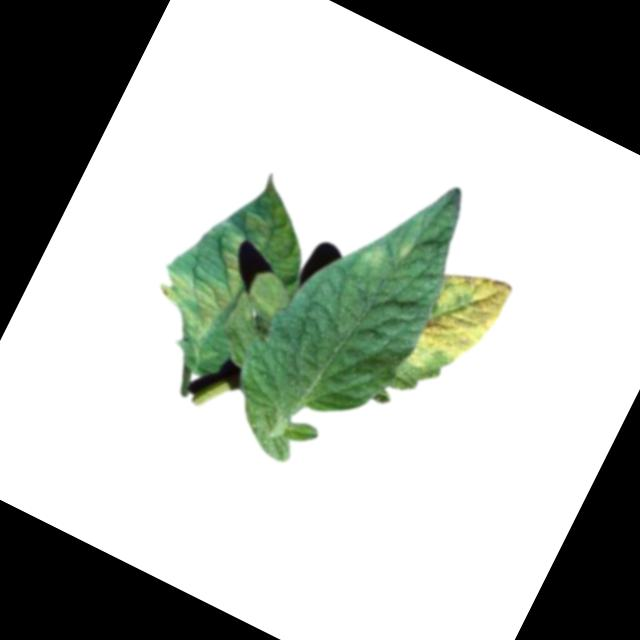Leaf_Mold: (139, 165, 327, 373), (397, 255, 517, 395), (354, 220, 418, 281)
